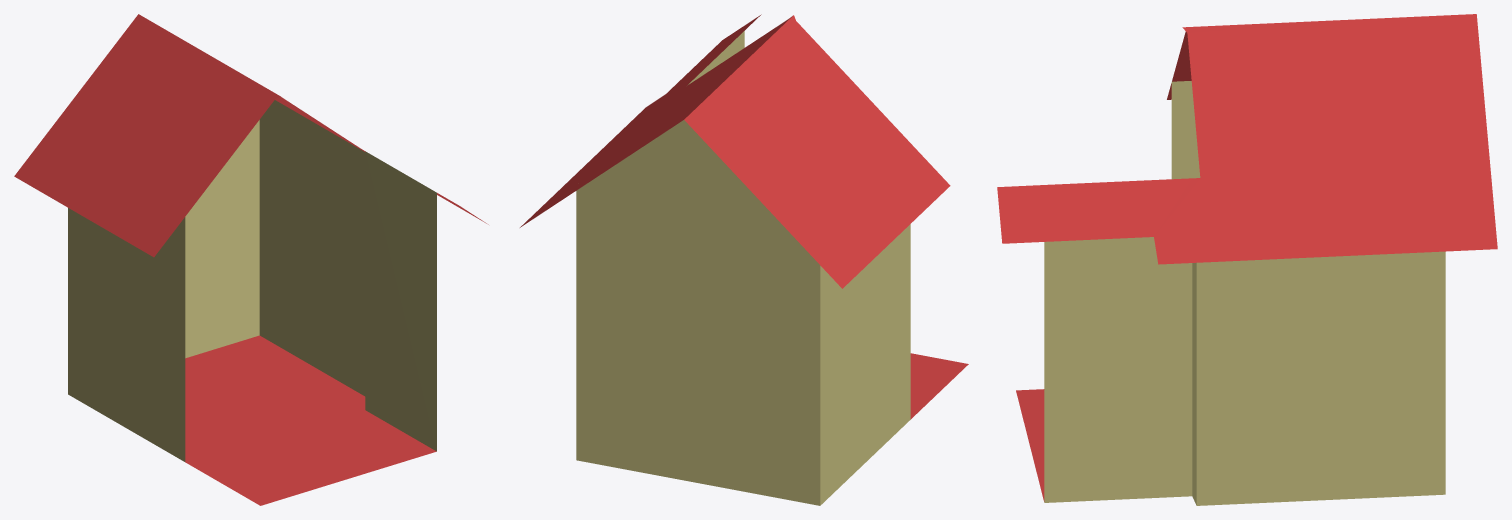
The picture shows the model from 3 angles, left to right: view 1: azimuth 30°, elevation 25°; view 2: azimuth 150°, elevation 25°; view 3: azimuth 270°, elevation 25°; orthographic projection. The views are drawn at different scales.
Size of the model in its own units: 8.85 by 10.54 by 9.66.
